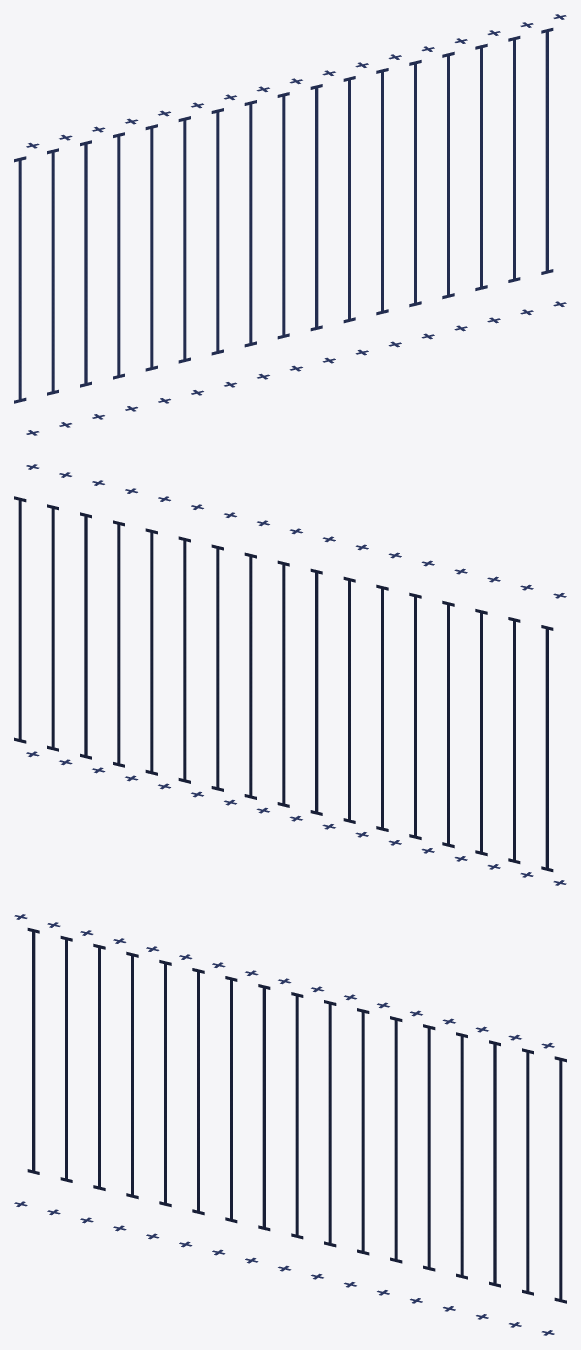
Rendered from Woollett_CompetitionPool_tile_dark_1in.obj.
3 renders of one model, top to bottom at view 1: azimuth 30°, elevation 25°; view 2: azimuth 150°, elevation 25°; view 3: azimuth 330°, elevation 25°, orthographic.
Parts seen in each view (by area): view 1: floor_lines_cross_dark, wall_pluses; view 2: floor_lines_cross_dark, wall_pluses; view 3: floor_lines_cross_dark, wall_pluses.
Part boxes in pixels (bbox=[...]): floor_lines_cross_dark: bbox=[14, 28, 553, 403]; wall_pluses: bbox=[26, 14, 566, 435]; floor_lines_cross_dark: bbox=[14, 496, 553, 871]; wall_pluses: bbox=[26, 464, 566, 885]; floor_lines_cross_dark: bbox=[27, 928, 566, 1303]; wall_pluses: bbox=[14, 914, 554, 1335].
Size of the model in its own units: 44.91 by 22.85 by 2.34.
Materials: 1 (1 with a texture image).
